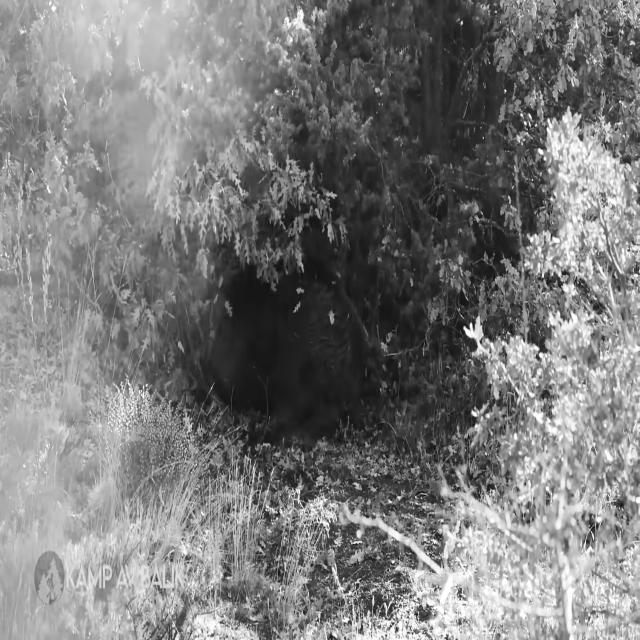boar: (211, 265, 365, 436)
